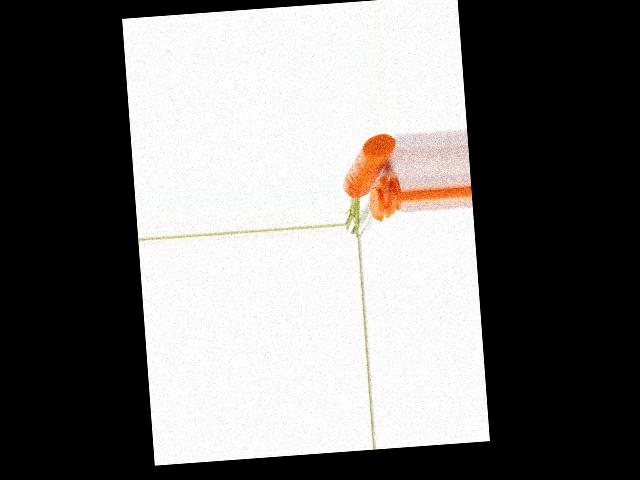carrot: (339, 137, 396, 199)
